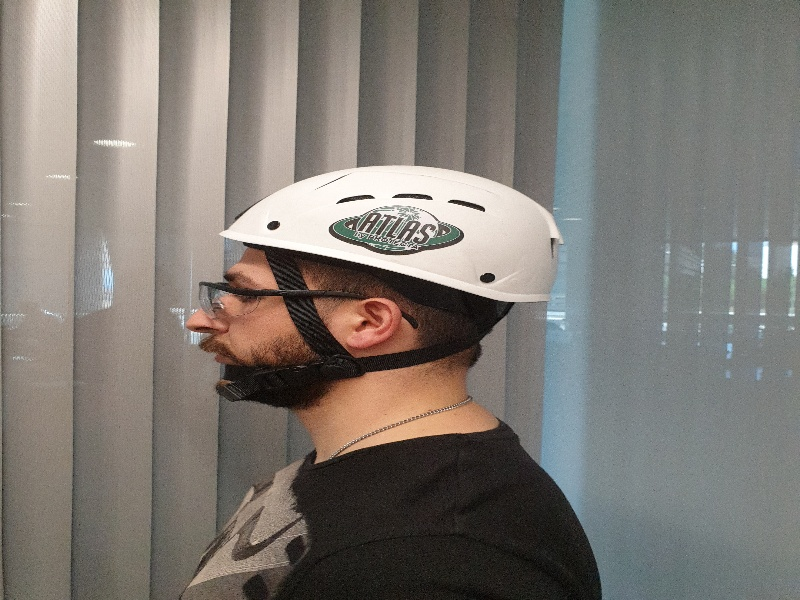Baret: (220, 162, 561, 303)
Gozluk: (195, 279, 378, 316)
